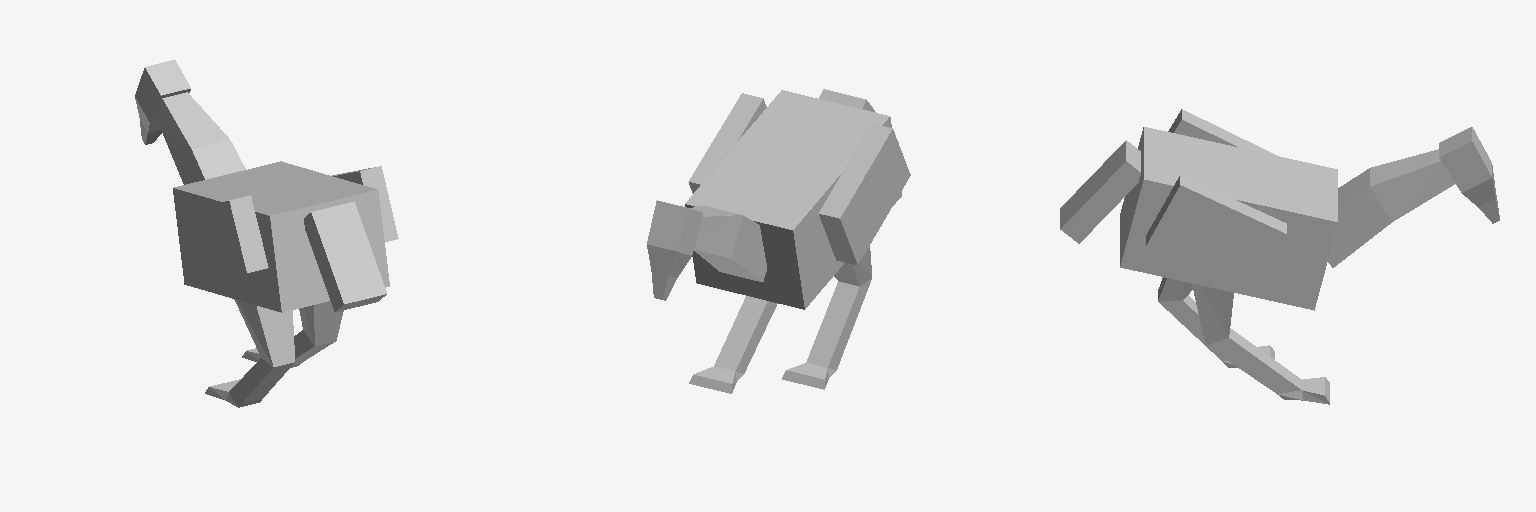
The model's file is Ostrich_000166.obj.
3 renders of one model, left to right at view 1: azimuth 30°, elevation 25°; view 2: azimuth 150°, elevation 25°; view 3: azimuth 270°, elevation 25°, orthographic.
Parts seen in each view (by area): view 1: Cube_Cube.001; view 2: Cube_Cube.001; view 3: Cube_Cube.001.
Boxes of the visible parts, x1,y1,x2,y2 form: Cube_Cube.001: [135, 60, 398, 407]; Cube_Cube.001: [647, 89, 910, 393]; Cube_Cube.001: [1060, 109, 1499, 404].
Size of the model in its own units: 0.7 by 1.08 by 1.76.